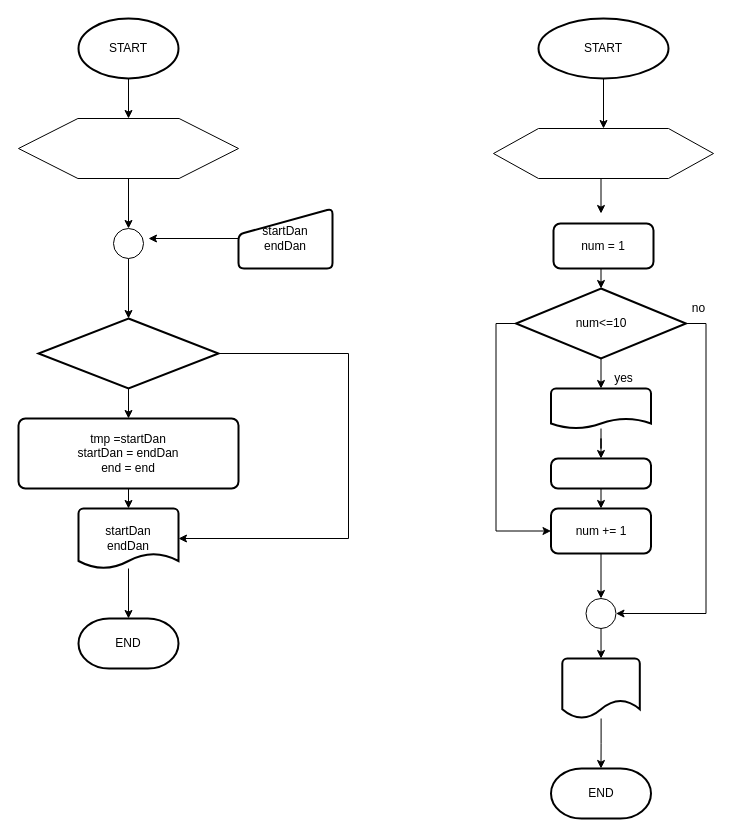
The diagram is 731 pixels wide and 836 high, and some of its shapes have lost their labels. The shapes that lost their labels are listed below. From the top down, each one's box as (x1, y1, x2, y2) in pixels, then its label:
(492, 128, 714, 178): total = 0, num
(37, 317, 219, 389): startDan > endDan
(550, 387, 652, 429): num
(550, 457, 652, 489): total += num
(561, 657, 640, 719): total
